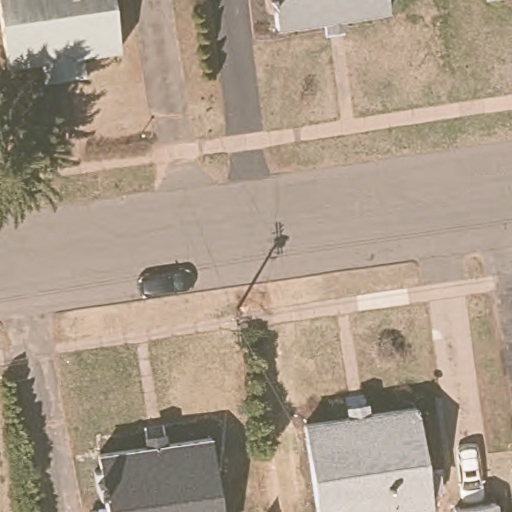DT: (229, 306, 251, 351)
